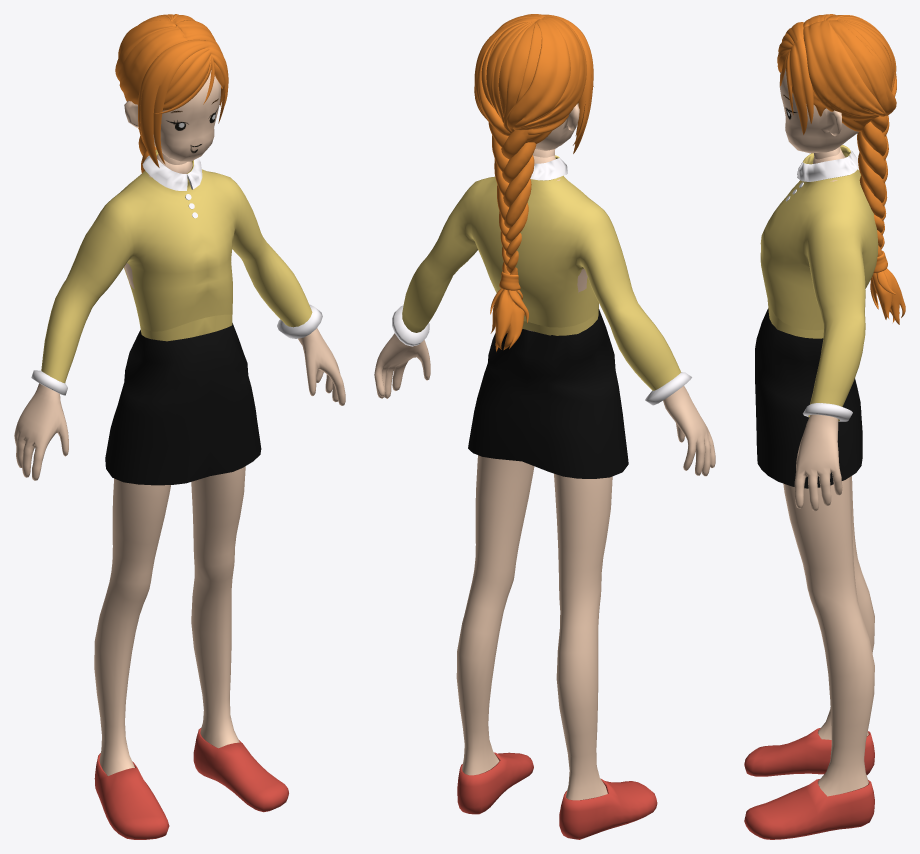
File: teacher.fbx
3 views of the same model, side by side, from view 1: azimuth 30°, elevation 25°; view 2: azimuth 150°, elevation 25°; view 3: azimuth 270°, elevation 25° (orthographic). The views are drawn at different scales.
Visible parts, largest first — view 1: Teacher's shirt; view 2: Teacher's shirt; view 3: Teacher's shirt.
Boxes of the visible parts, bbox=[...] form: Teacher's shirt: bbox=[14, 14, 345, 839]; Teacher's shirt: bbox=[374, 14, 715, 839]; Teacher's shirt: bbox=[744, 14, 905, 839].
Bounding box in the file's own units: 150 × 350 × 65.38.
